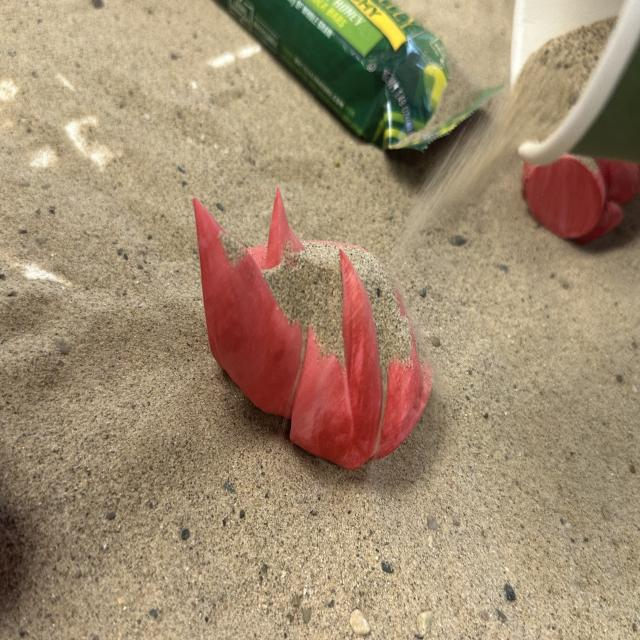fire: (190, 184, 435, 472), (520, 152, 640, 241)
